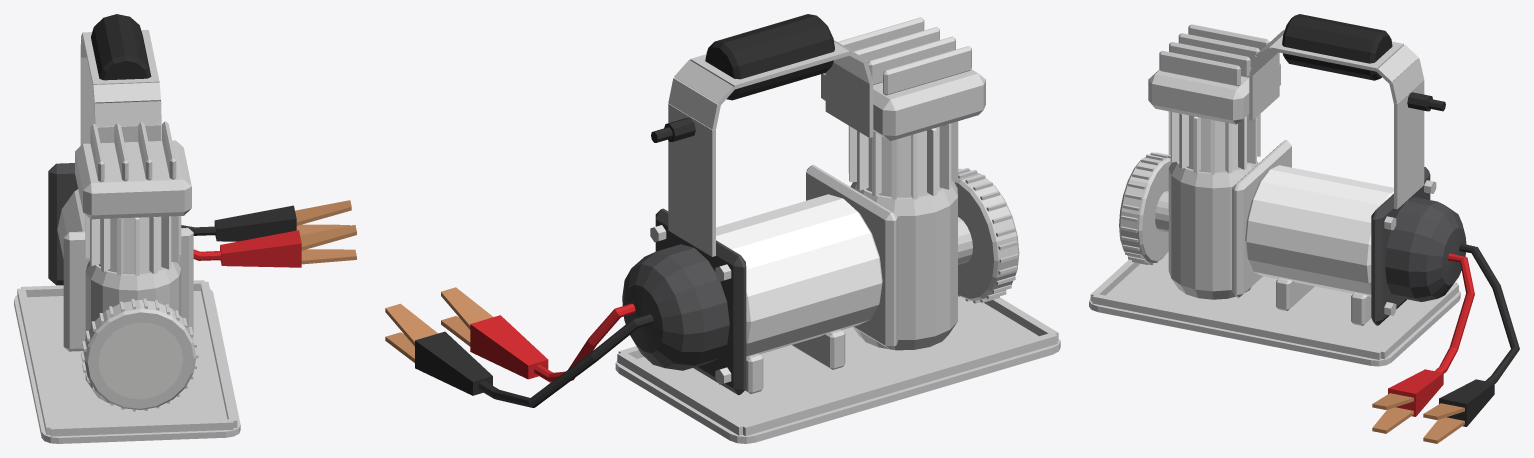
Rendered from item-compressor.glb.
3 renders of one model, left to right at view 1: azimuth 30°, elevation 25°; view 2: azimuth 150°, elevation 25°; view 3: azimuth 270°, elevation 25°, orthographic. The views are drawn at different scales.
Parts seen in each view (by area): view 1: compressor; view 2: compressor; view 3: compressor.
Part boxes in pixels (bbox=[...]): compressor: bbox=[14, 14, 356, 443]; compressor: bbox=[385, 14, 1060, 443]; compressor: bbox=[1089, 14, 1519, 443].
Bounding box in the file's own units: 0.3857 × 0.255 × 0.3375.
